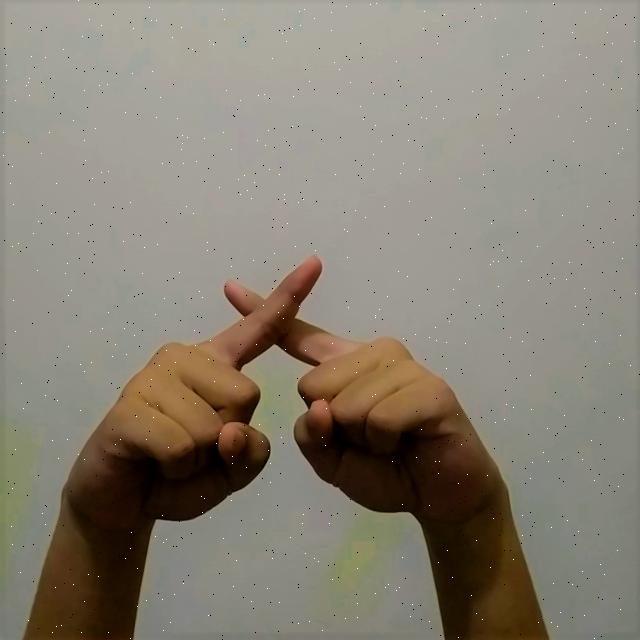X: (40, 230, 516, 563)
